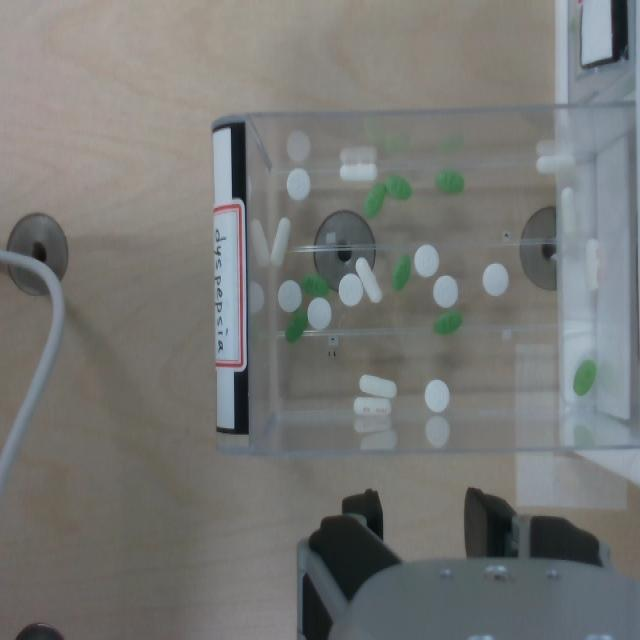magmil_tab: (413, 244, 439, 276), (482, 263, 508, 295), (433, 275, 458, 308), (424, 379, 449, 412), (338, 273, 363, 305), (286, 168, 310, 200), (307, 297, 331, 329), (278, 280, 301, 312)
medilacsenteric_tab: (355, 257, 381, 303), (270, 217, 290, 265), (585, 239, 603, 291), (359, 375, 396, 397), (536, 152, 574, 173), (560, 188, 574, 235), (340, 163, 376, 181)
nexilen_tab: (573, 359, 596, 396), (364, 183, 386, 217), (285, 308, 307, 341), (436, 169, 464, 193), (434, 311, 461, 335), (392, 255, 411, 289), (385, 175, 411, 199), (300, 275, 329, 296)
